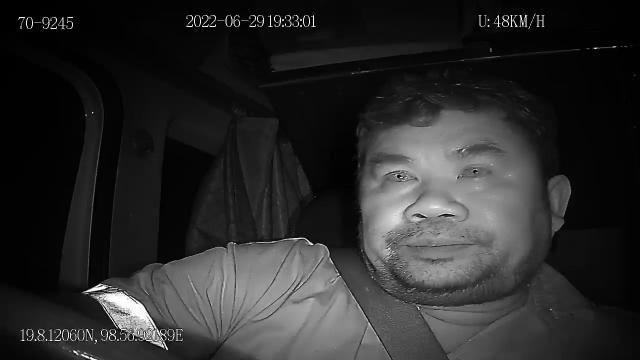SafeDriving: (451, 150, 502, 188), (372, 157, 427, 191)
Seatbelt: (326, 246, 454, 360)
